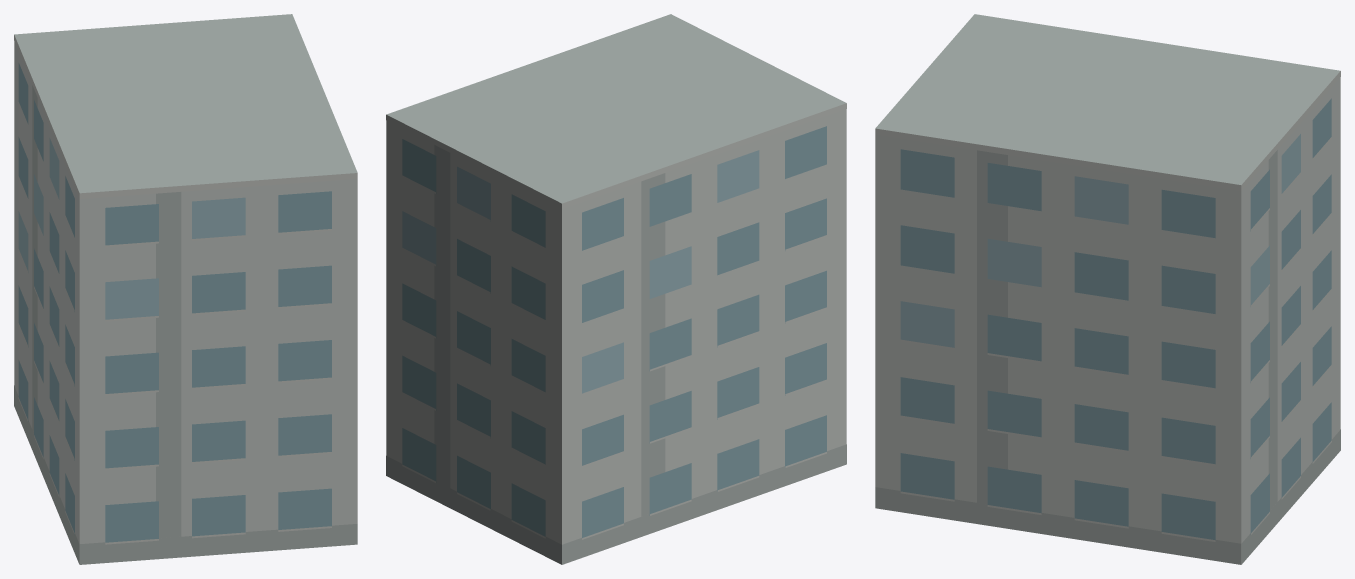
Rendered from residential-8ff52eaa-ce85-4ca7-be14-5691e202d4c7.glb.
3 renders of one model, left to right at view 1: azimuth 30°, elevation 25°; view 2: azimuth 150°, elevation 25°; view 3: azimuth 270°, elevation 25°, orthographic. The views are drawn at different scales.
Visible parts, largest first — view 1: residential-8ff52eaa-ce85-4ca7-be14-5691e202d4c7.tmp; view 2: residential-8ff52eaa-ce85-4ca7-be14-5691e202d4c7.tmp; view 3: residential-8ff52eaa-ce85-4ca7-be14-5691e202d4c7.tmp.
Boxes of the visible parts, x1,y1,x2,y2 form: residential-8ff52eaa-ce85-4ca7-be14-5691e202d4c7.tmp: (14,14,357,564); residential-8ff52eaa-ce85-4ca7-be14-5691e202d4c7.tmp: (386,14,846,564); residential-8ff52eaa-ce85-4ca7-be14-5691e202d4c7.tmp: (875,14,1340,564).
Bounding box in the file's own units: 14.75 × 15.25 × 16.95.
